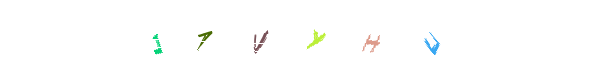7: (193, 0, 273, 80)
H: (284, 0, 364, 80)
J: (117, 0, 197, 80)
U: (368, 0, 448, 80)
V: (254, 0, 334, 80)
Y: (276, 0, 356, 80)
